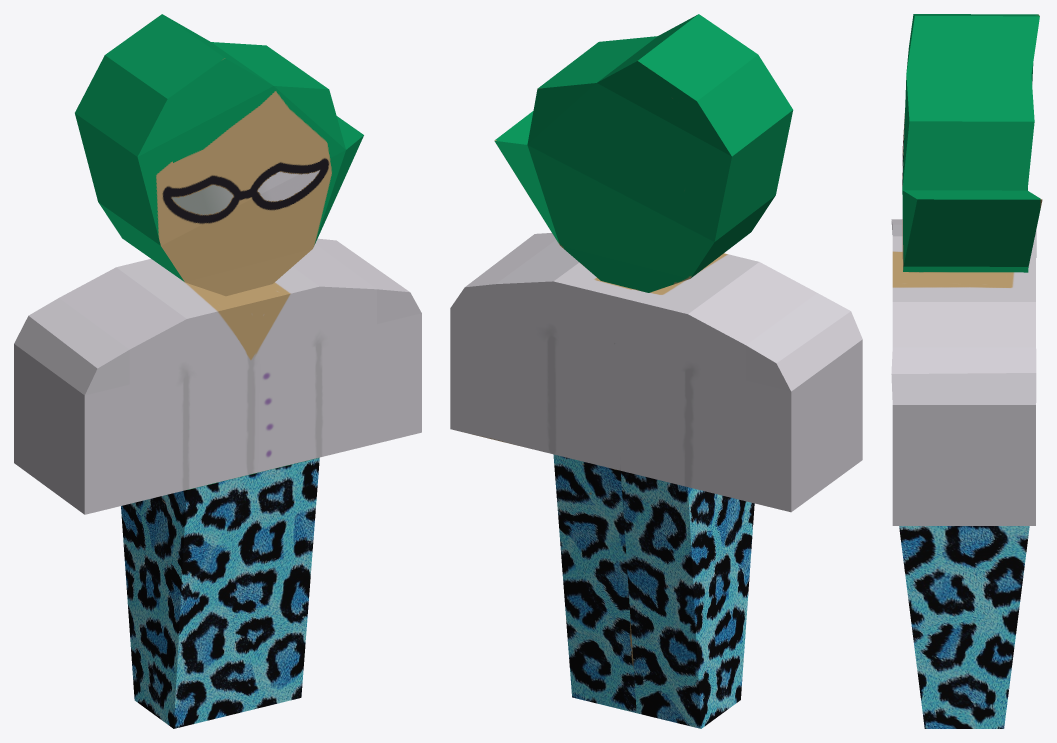
Rendered from vastaantulija_hiuksetpystyssa01.fbx.
3 views of the same model, side by side, from view 1: azimuth 30°, elevation 25°; view 2: azimuth 150°, elevation 25°; view 3: azimuth 270°, elevation 25° (orthographic).
Visible parts, largest first — view 1: Cube; view 2: Cube; view 3: Cube.
Boxes of the visible parts, x1,y1,x2,y2 form: Cube: [14, 14, 421, 728]; Cube: [450, 14, 862, 728]; Cube: [891, 14, 1042, 728].
Size of the model in its own units: 2.81 by 5.28 by 1.07.
Materials: 1 (1 with a texture image).
